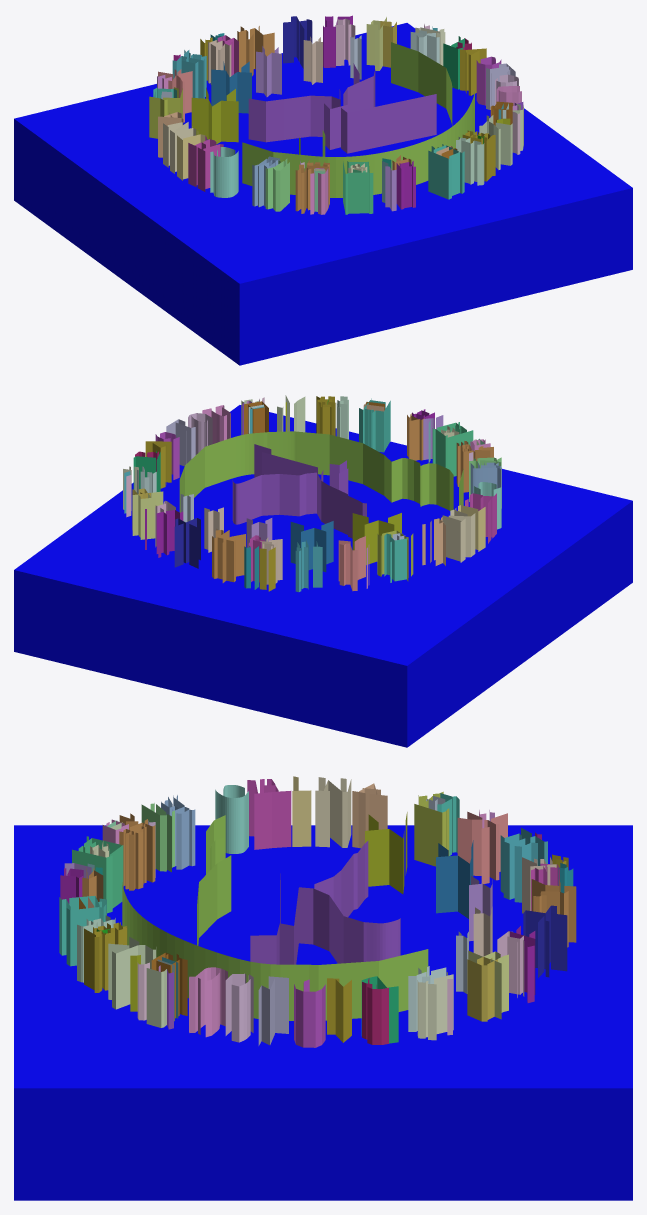
The model's file is school-badge.glb.
The picture shows the model from 3 angles, top to bottom: view 1: azimuth 30°, elevation 25°; view 2: azimuth 150°, elevation 25°; view 3: azimuth 270°, elevation 25°; orthographic projection. The views are drawn at different scales.
Parts seen in each view (by area): view 1: Box001, Line006, Line054, Line001, Line055, Line063, Line002, Line029, Line030, Line066, Line003, Line020 (+25 smaller); view 2: Box001, Line054, Line006, Line019, Line032, Line002, Line055, Line063, Line001, Line012, Line020, Line023 (+26 smaller); view 3: Box001, Line054, Line006, Line030, Line012, Line001, Line032, Line020, Line041, Line068, Line002, Line014 (+33 smaller).
Boxes of the visible parts, bbox=[...] form: Box001: bbox=[14, 23, 632, 365]; Line006: bbox=[248, 63, 436, 153]; Line054: bbox=[242, 42, 474, 197]; Line001: bbox=[191, 87, 238, 144]; Line055: bbox=[428, 144, 464, 199]; Line063: bbox=[343, 161, 373, 214]; Line002: bbox=[211, 61, 251, 113]; Line029: bbox=[210, 147, 238, 197]; Line030: bbox=[188, 136, 223, 191]; Line066: bbox=[265, 158, 289, 211]; Line003: bbox=[256, 46, 281, 97]; Line020: bbox=[283, 16, 312, 68]; Box001: bbox=[14, 405, 632, 747]; Line054: bbox=[179, 431, 463, 512]; Line006: bbox=[232, 444, 366, 538]; Line019: bbox=[212, 529, 245, 582]; Line032: bbox=[442, 508, 475, 562]; Line002: bbox=[290, 521, 333, 572]; Line055: bbox=[359, 398, 390, 452]; Line063: bbox=[432, 422, 473, 476]; Line001: bbox=[352, 513, 401, 564]; Line012: bbox=[338, 536, 365, 591]; Line020: bbox=[174, 518, 200, 568]; Line023: bbox=[132, 491, 163, 539]; Box001: bbox=[14, 825, 632, 1200]; Line054: bbox=[122, 815, 428, 1020]; Line006: bbox=[250, 841, 400, 964]; Line030: bbox=[247, 779, 291, 849]; Line012: bbox=[457, 811, 507, 883]; Line001: bbox=[365, 812, 407, 894]; Line032: bbox=[315, 777, 351, 847]; Line020: bbox=[523, 905, 567, 977]; Line041: bbox=[189, 967, 227, 1037]; Line068: bbox=[119, 813, 155, 890]; Line002: bbox=[436, 840, 473, 918]; Line014: bbox=[500, 827, 547, 902].
Size of the model in its own units: 0.0503 by 0.0171 by 0.05.
